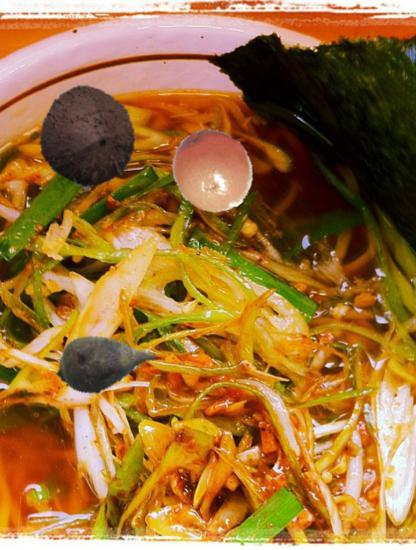Beetroot: (50, 309, 159, 418)
Cocos: (34, 82, 142, 190)
Tangelo: (170, 128, 257, 215)
